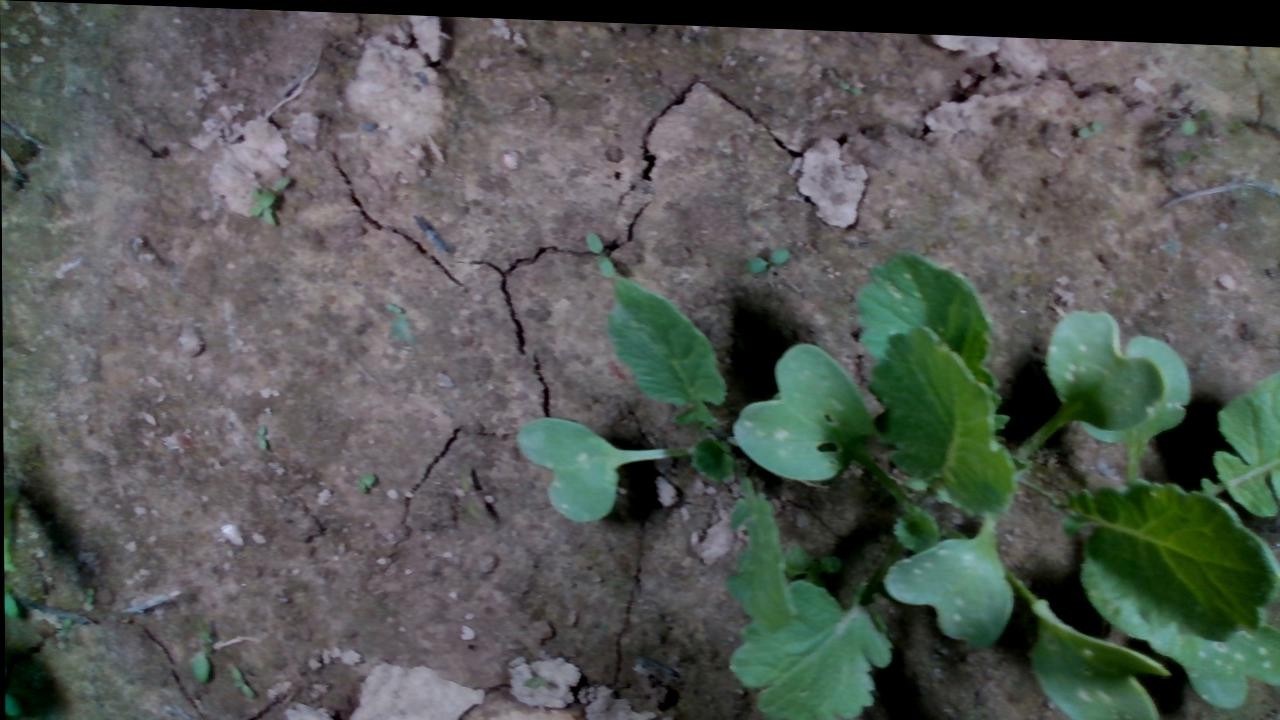weed: (574, 220, 623, 278), (739, 231, 785, 273), (225, 659, 255, 697)
